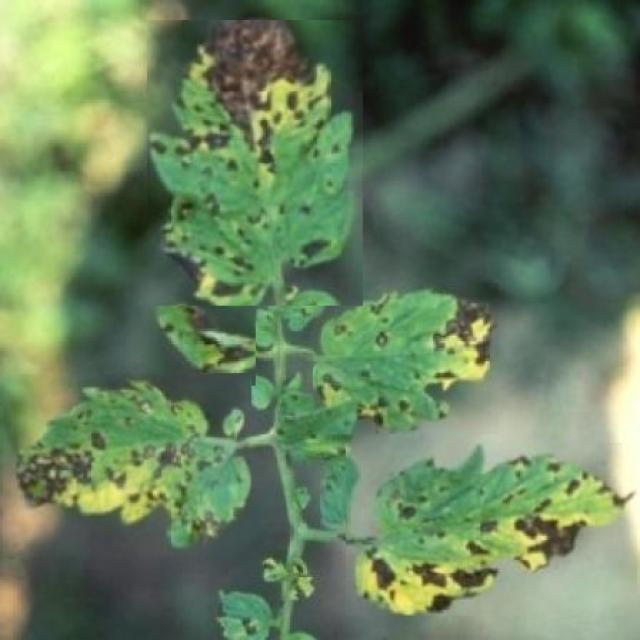Septoria: (147, 21, 363, 306), (346, 443, 637, 616), (4, 374, 252, 556), (314, 282, 499, 434), (147, 300, 256, 386)
